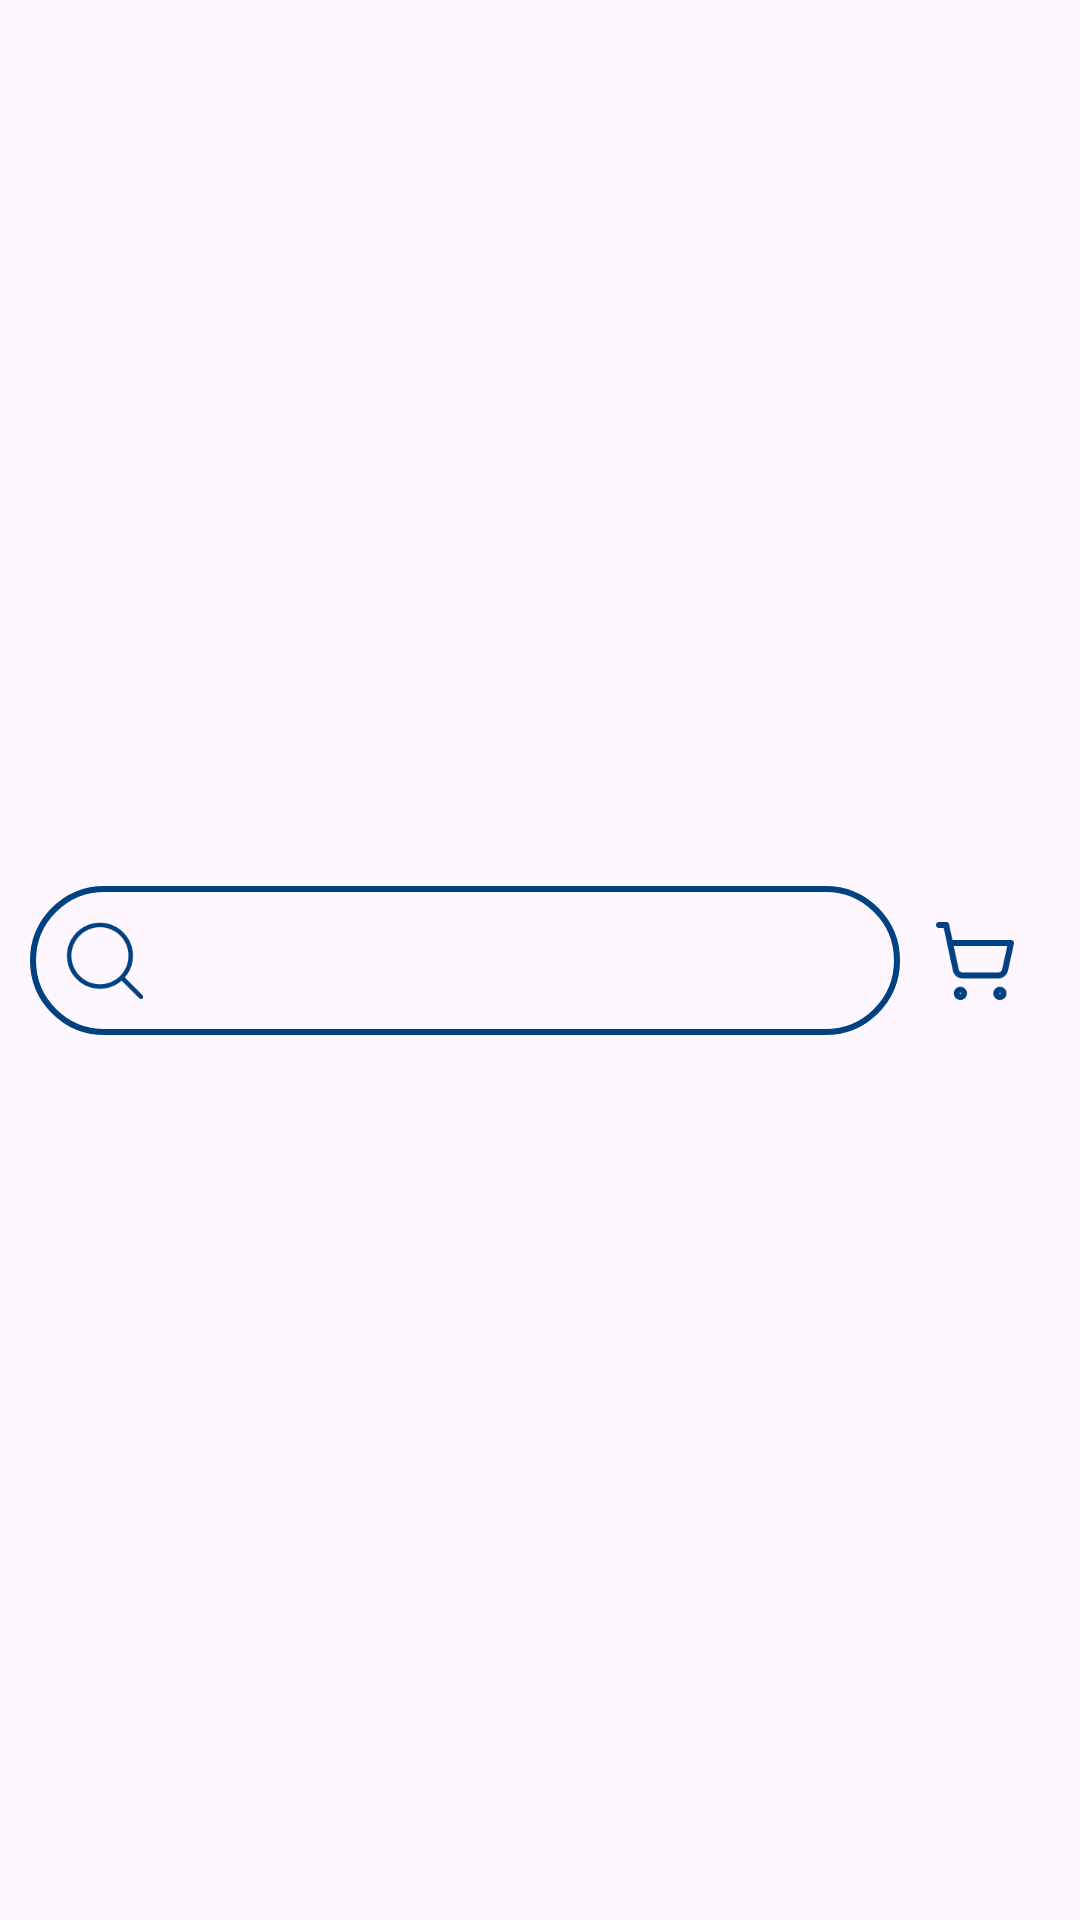

Icon click points for this 1080px x 1920px phone screenshot, format (x,y):
cart: (975,961)
search: (104,960)
